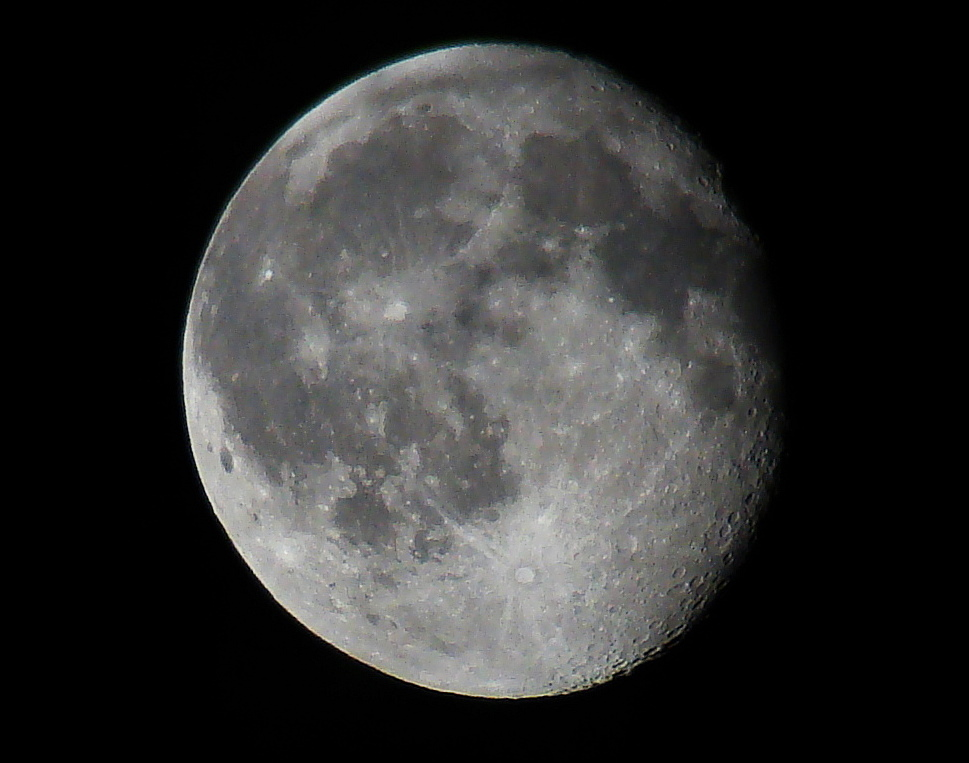crater: (495, 547, 546, 599), (376, 290, 426, 336), (215, 433, 251, 479), (250, 259, 286, 300), (608, 529, 642, 568), (398, 96, 443, 125), (580, 81, 606, 103), (403, 348, 428, 367), (570, 221, 595, 238), (739, 489, 762, 507), (636, 238, 655, 259), (742, 404, 763, 423)
